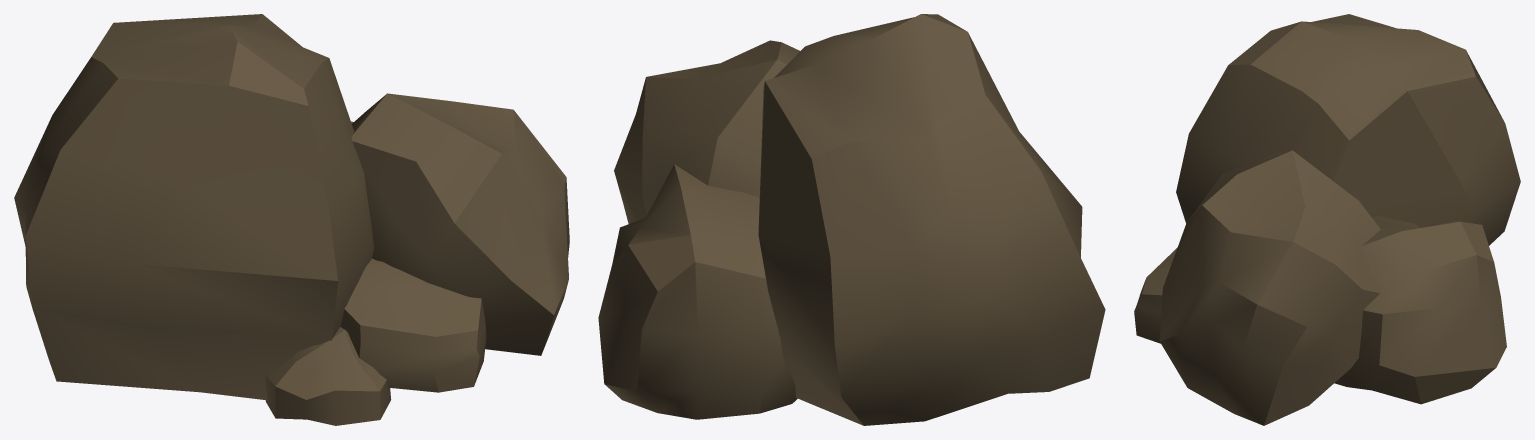
Rendered from rock_pile_2.fbx.
The picture shows the model from 3 angles, left to right: view 1: azimuth 30°, elevation 25°; view 2: azimuth 150°, elevation 25°; view 3: azimuth 270°, elevation 25°; orthographic projection. The views are drawn at different scales.
Visible parts, largest first — view 1: rock_pile_2; view 2: rock_pile_2; view 3: rock_pile_2.
Part boxes in pixels (<box>): rock_pile_2: <box>14,14,569,425</box>; rock_pile_2: <box>598,14,1105,425</box>; rock_pile_2: <box>1134,14,1520,425</box>.
Size of the model in its own units: 249 by 167 by 201.
